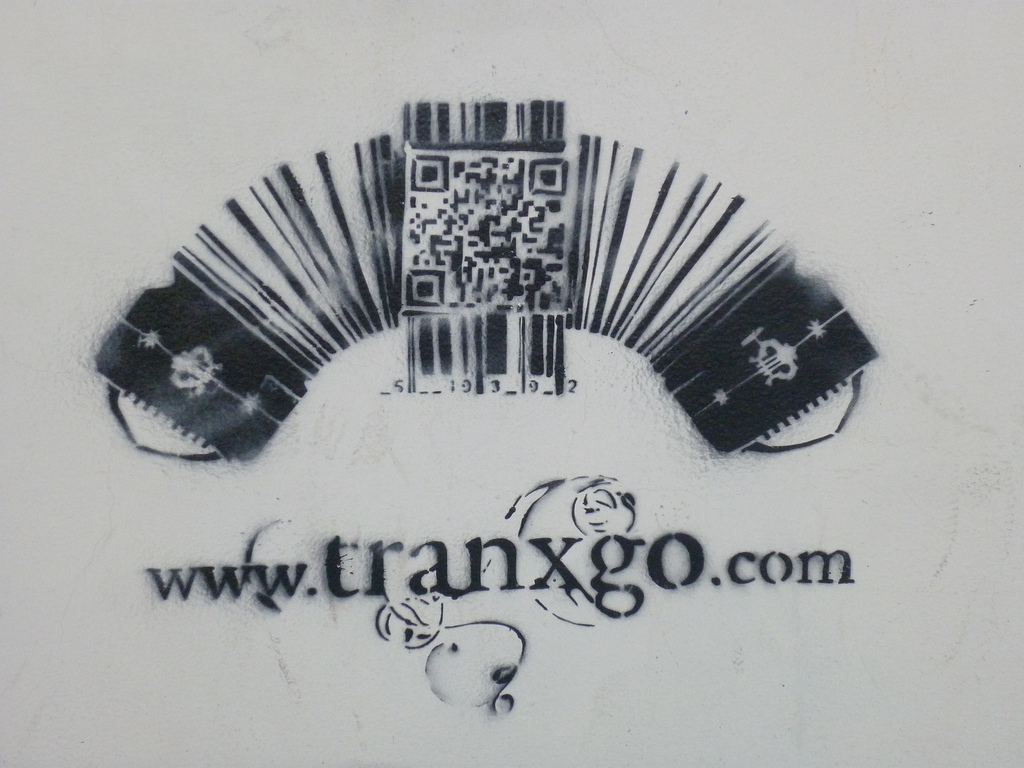QR-CODE: (405, 154, 568, 309)
